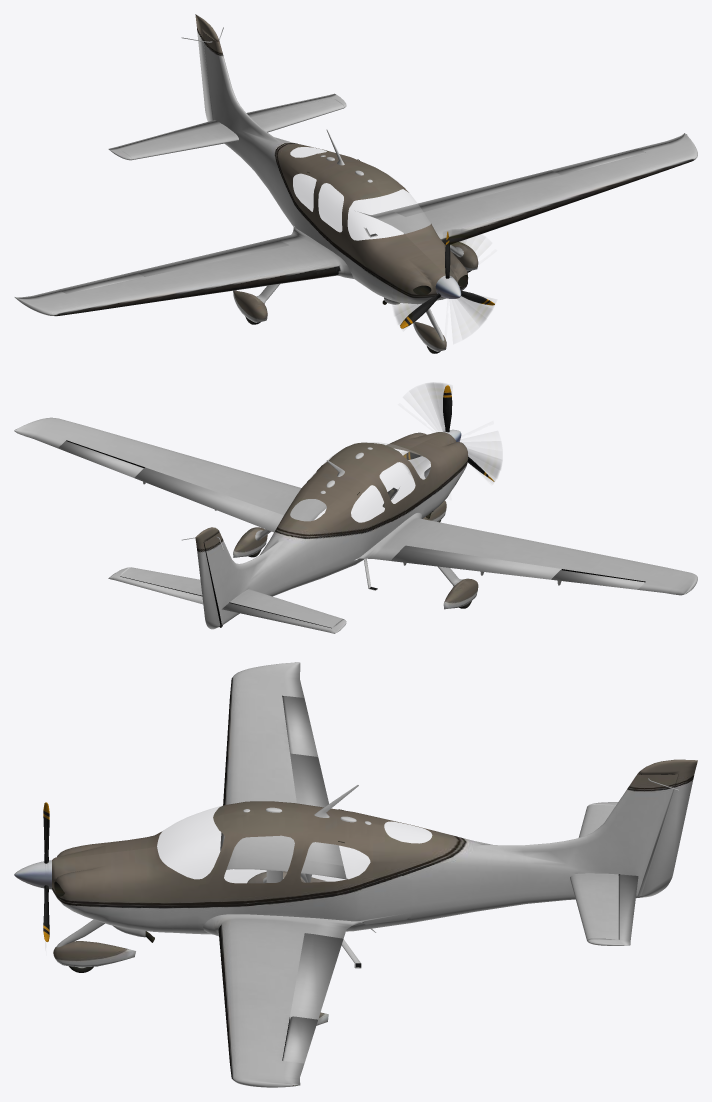
3 views of the same model, one above another, from view 1: azimuth 30°, elevation 25°; view 2: azimuth 150°, elevation 25°; view 3: azimuth 270°, elevation 25° (orthographic). The views are drawn at different scales.
Visible parts, largest first — view 1: ailes, fuselage, vitres, ailes2, porteD, voletG, propblur, voletD, profondeur, vitreporteD, direction, helice (+4 smaller); view 2: ailes, fuselage, ailes2, voletG, voletD, vitres, porteD, profondeur, direction, aileronG, vitreporteD, propblur (+6 smaller); view 3: fuselage, ailes, vitres, porteG, direction, ailes2, voletG, vitreporteG, cargo, voletD, cacheA, aileronD (+4 smaller).
Boxes of the visible parts, box(x1,y1,x2,y2) form: ailes: box(15, 133, 697, 316); fuselage: box(202, 31, 468, 304); vitres: box(290, 147, 442, 300); ailes2: box(120, 98, 344, 159); porteD: box(315, 171, 367, 257); voletG: box(390, 170, 560, 234); propblur: box(395, 229, 493, 326); voletD: box(134, 238, 289, 276); profondeur: box(108, 93, 346, 160); vitreporteD: box(318, 183, 343, 231); direction: box(195, 14, 219, 121); helice: box(400, 231, 494, 328); ailes: box(14, 417, 697, 595); fuselage: box(204, 432, 468, 625); ailes2: box(120, 567, 342, 627); voletG: box(134, 467, 283, 532); voletD: box(391, 545, 561, 585); vitres: box(290, 442, 430, 522); porteD: box(359, 449, 426, 523); profondeur: box(108, 567, 346, 633); direction: box(195, 527, 220, 629); aileronG: box(58, 441, 143, 477); vitreporteD: box(380, 462, 415, 503); propblur: box(407, 383, 500, 480); fuselage: box(52, 774, 677, 934); ailes: box(203, 662, 361, 1087); vitres: box(157, 806, 431, 882); porteG: box(197, 814, 308, 909); direction: box(637, 759, 697, 897); ailes2: box(570, 805, 618, 939); voletG: box(290, 933, 343, 1019); vitreporteG: box(224, 836, 294, 882); cargo: box(359, 875, 412, 924); voletD: box(290, 753, 343, 882); cacheA: box(53, 941, 135, 967); aileronD: box(282, 696, 318, 756).
Bounding box in the file's own units: 11.58 × 2.71 × 7.91.
Materials: 3 (2 with a texture image).
